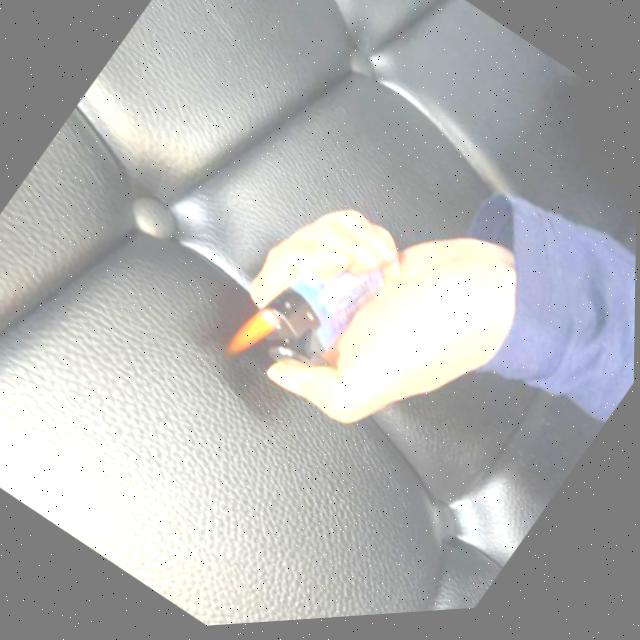Fire: (224, 296, 288, 370)
